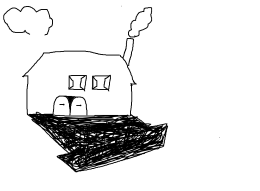clouds: (2, 3, 64, 41)
door: (51, 92, 91, 120)
open_window: (90, 71, 113, 93), (66, 72, 88, 93)
shadow: (23, 111, 172, 173)
single_line_roof: (17, 47, 141, 88)
smoking_chimney: (114, 4, 158, 68)
wall: (21, 72, 139, 120)
